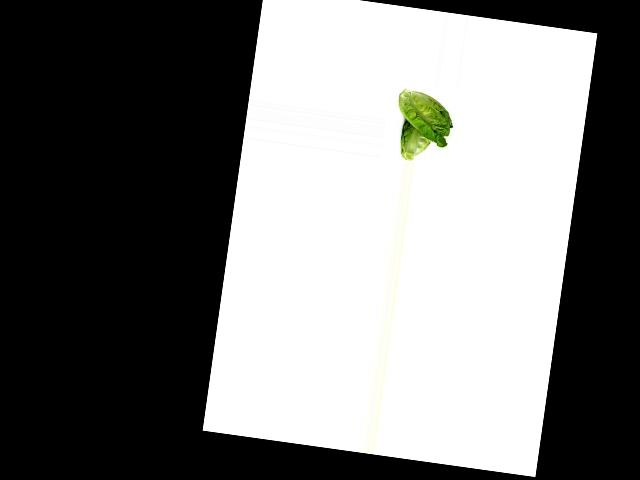lettuce: (394, 119, 435, 164)
